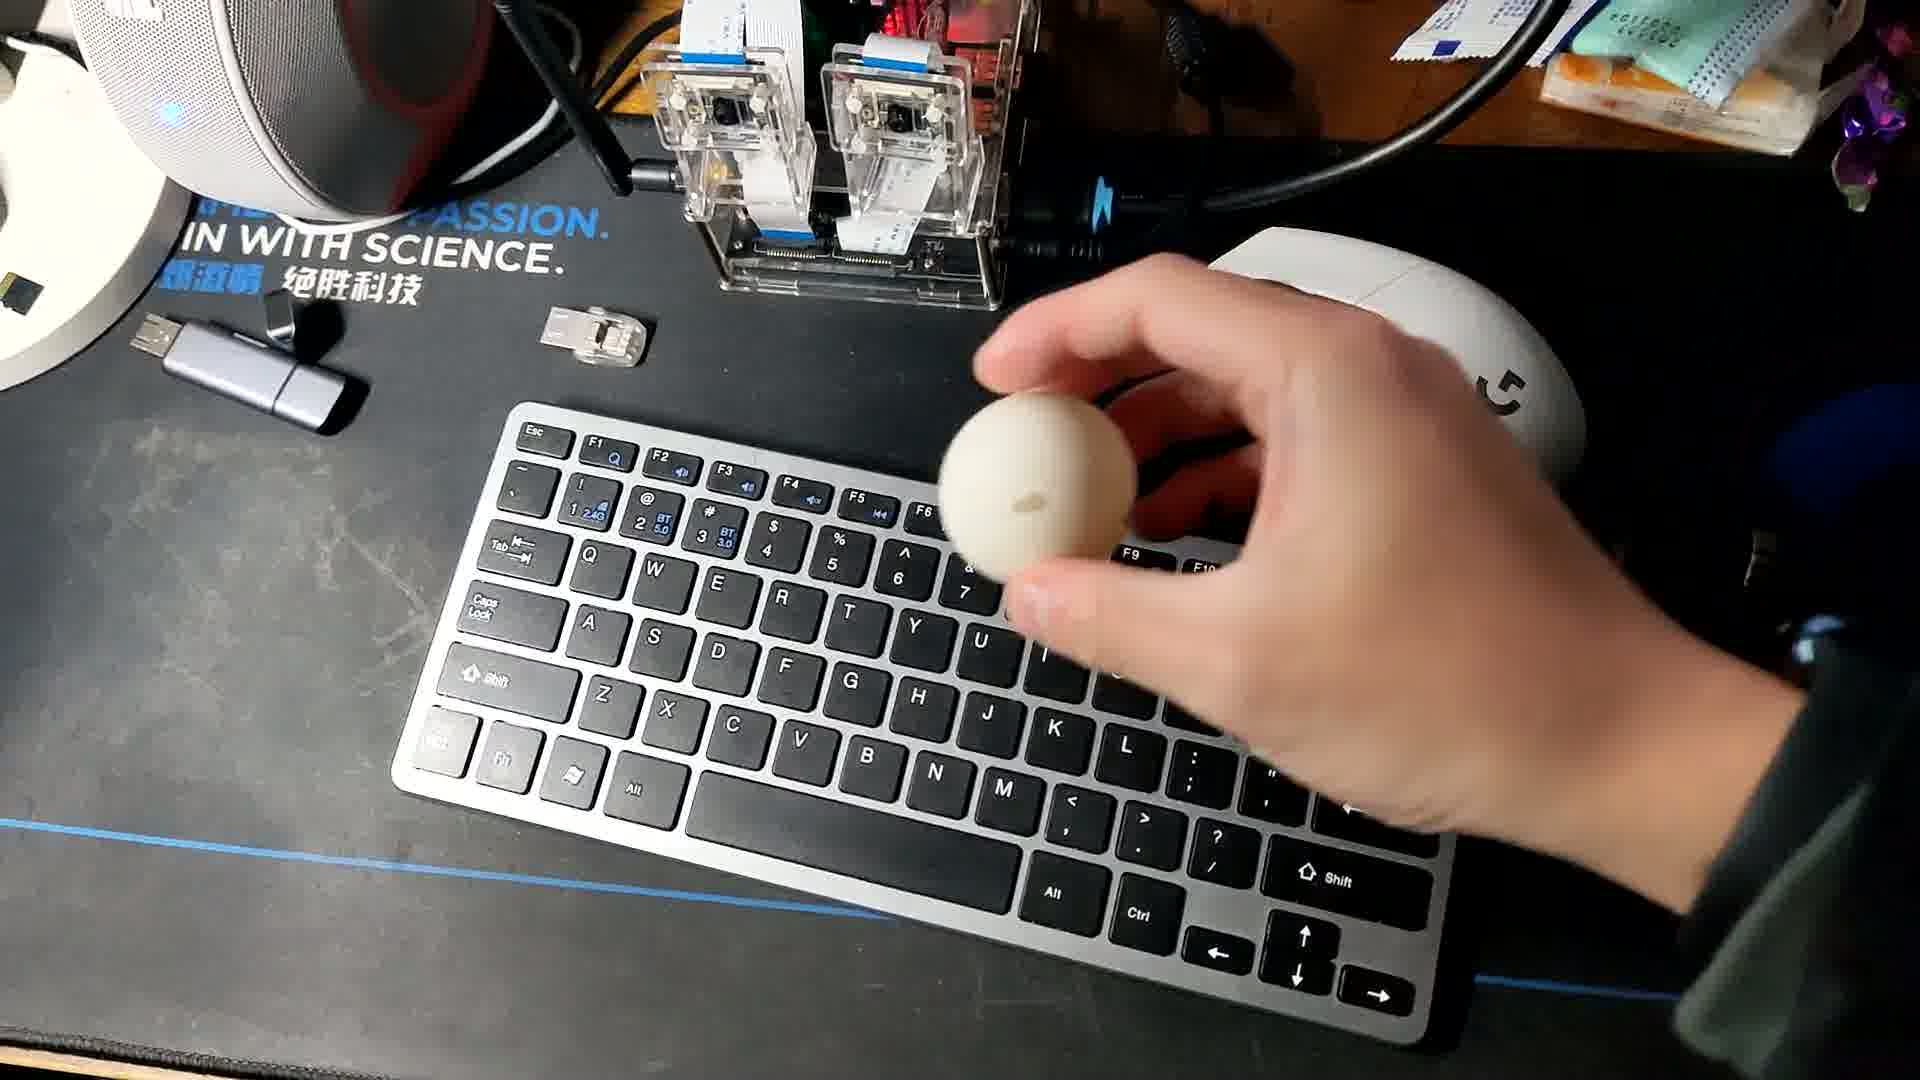Ball: (940, 389, 1137, 589)
